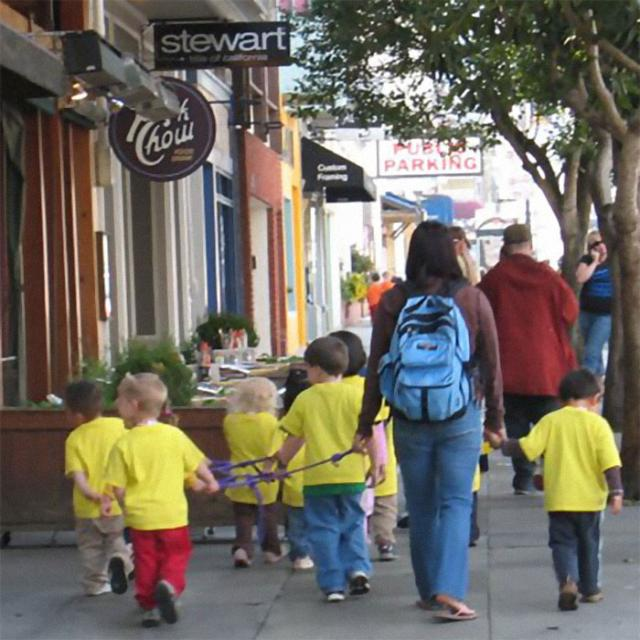Walking: (375, 218, 489, 610), (477, 220, 581, 493), (280, 377, 376, 593)
human: (488, 364, 626, 610), (100, 371, 218, 625), (62, 377, 138, 596), (222, 375, 298, 568), (334, 332, 394, 562), (403, 222, 463, 286)
loitering: (576, 258, 612, 383)
